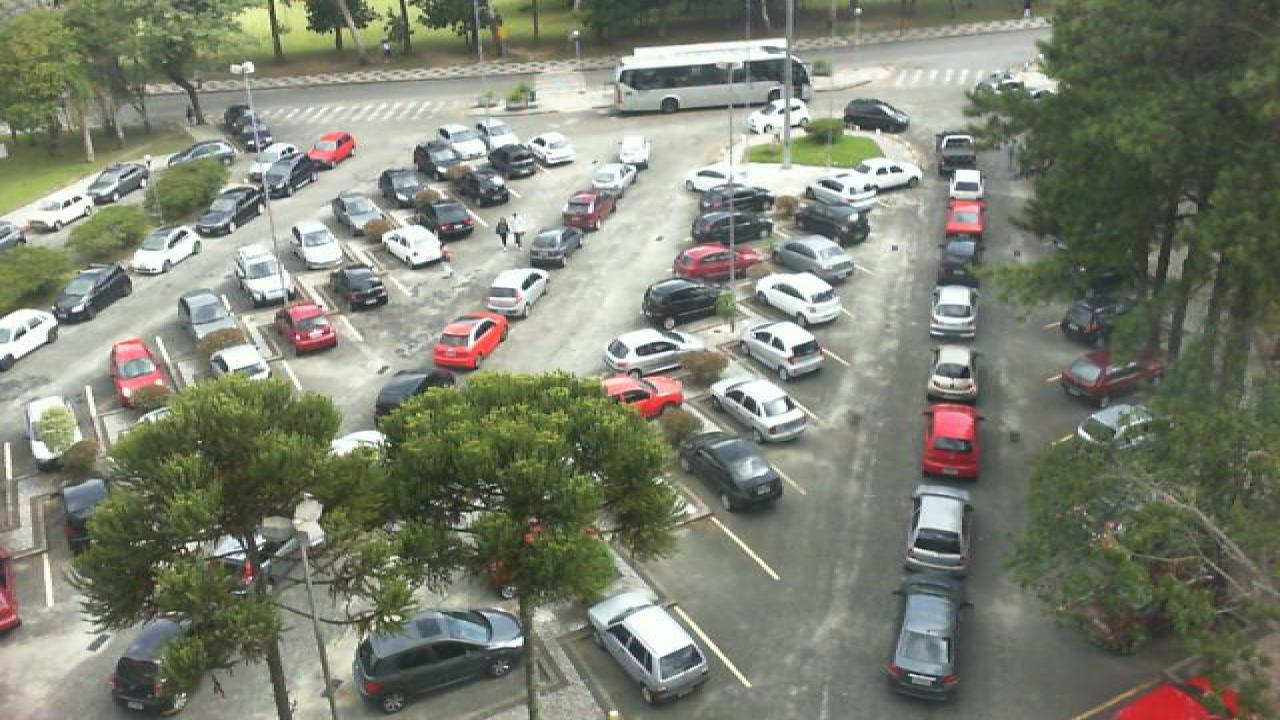Car: (352, 606, 528, 708), (584, 592, 708, 703), (884, 568, 974, 701), (106, 618, 208, 718), (676, 432, 784, 512), (1060, 344, 1166, 408), (902, 486, 976, 577), (710, 378, 808, 443), (52, 262, 136, 325), (738, 323, 826, 380), (918, 400, 980, 480), (638, 279, 732, 330), (756, 271, 846, 324), (602, 327, 696, 377), (432, 312, 510, 372), (22, 391, 82, 464), (108, 336, 170, 406), (770, 233, 858, 282), (1062, 292, 1140, 347), (370, 368, 452, 420), (600, 374, 688, 422), (128, 225, 204, 275), (480, 266, 550, 318), (232, 247, 294, 305), (0, 307, 58, 369), (272, 300, 338, 354), (196, 186, 264, 238), (922, 341, 978, 403), (796, 202, 874, 246), (378, 224, 452, 270), (924, 282, 980, 342), (670, 243, 764, 278), (808, 174, 892, 212), (18, 190, 94, 231), (176, 288, 236, 338), (328, 262, 390, 310), (330, 190, 394, 236), (252, 154, 320, 197), (86, 160, 152, 204), (934, 232, 986, 287), (204, 342, 270, 385), (374, 163, 440, 204), (290, 218, 344, 268), (688, 214, 774, 245), (694, 182, 772, 215), (524, 226, 584, 268), (848, 156, 922, 190), (842, 98, 912, 133), (446, 170, 510, 207), (412, 195, 476, 231), (410, 140, 474, 176), (158, 141, 234, 171), (560, 190, 612, 232), (680, 163, 750, 194), (744, 103, 810, 135), (932, 133, 980, 172), (486, 146, 540, 178), (942, 200, 986, 239), (306, 132, 356, 166), (224, 118, 274, 152), (530, 130, 576, 166), (454, 121, 504, 153), (586, 164, 628, 199), (608, 136, 652, 169), (944, 167, 984, 202)
